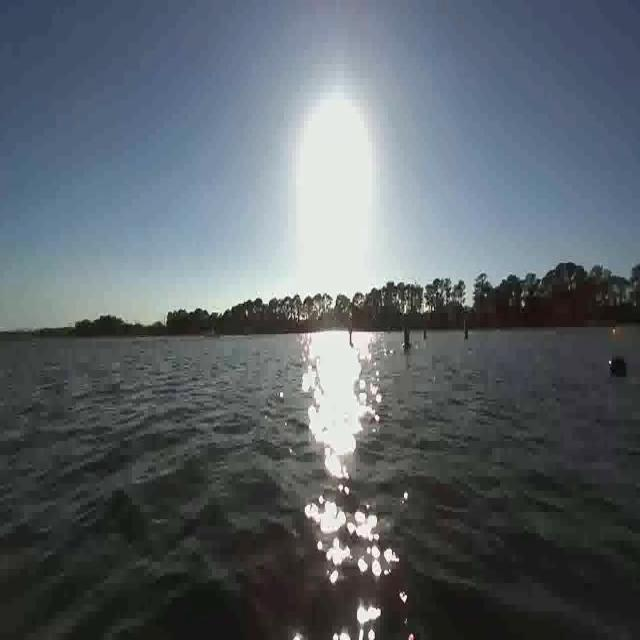black-buoy: (610, 355, 628, 377)
green-column-buoy: (404, 326, 413, 350), (423, 328, 428, 343)
red-column-buoy: (348, 326, 353, 346)
